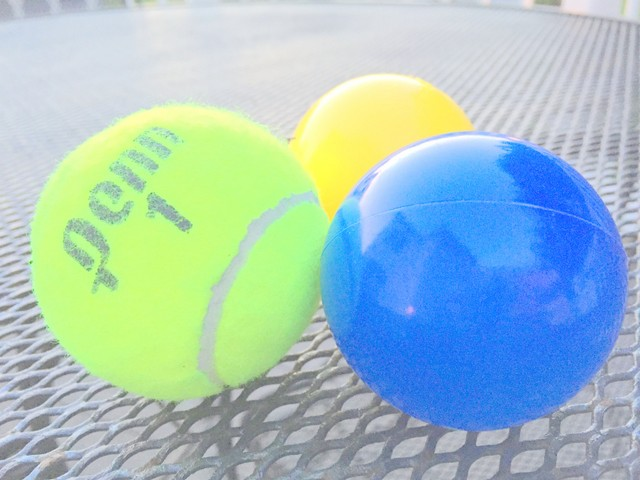Ball: (320, 135, 626, 428)
